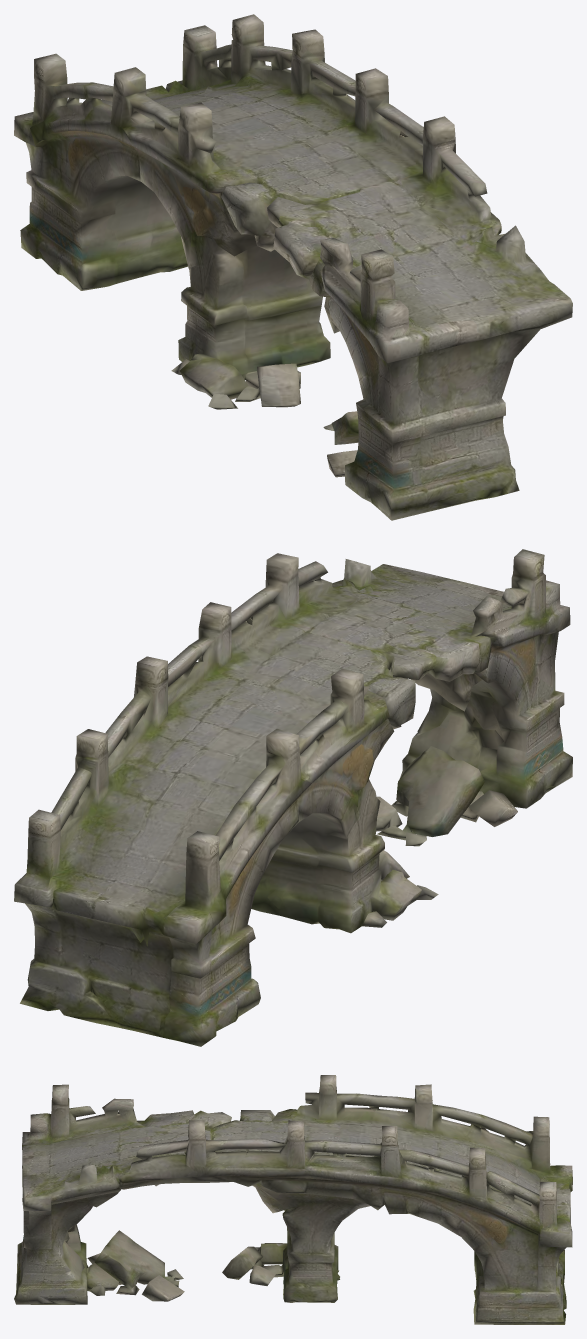
File: prop_cau_da_gay.f00dedb56c.glb
The picture shows the model from 3 angles, top to bottom: view 1: azimuth 30°, elevation 25°; view 2: azimuth 150°, elevation 25°; view 3: azimuth 270°, elevation 25°; orthographic projection. The views are drawn at different scales.
Visible parts, largest first — view 1: prop_cau_da_gay; view 2: prop_cau_da_gay; view 3: prop_cau_da_gay.
Part boxes in pixels (x1=…): prop_cau_da_gay: x1=14, y1=14, x2=572, y2=520; prop_cau_da_gay: x1=14, y1=549, x2=572, y2=1046; prop_cau_da_gay: x1=14, y1=1075, x2=572, y2=1324.
Size of what is drawn, in the model's own units: 4.44 by 5.45 by 14.
1 material, 1 textured.
